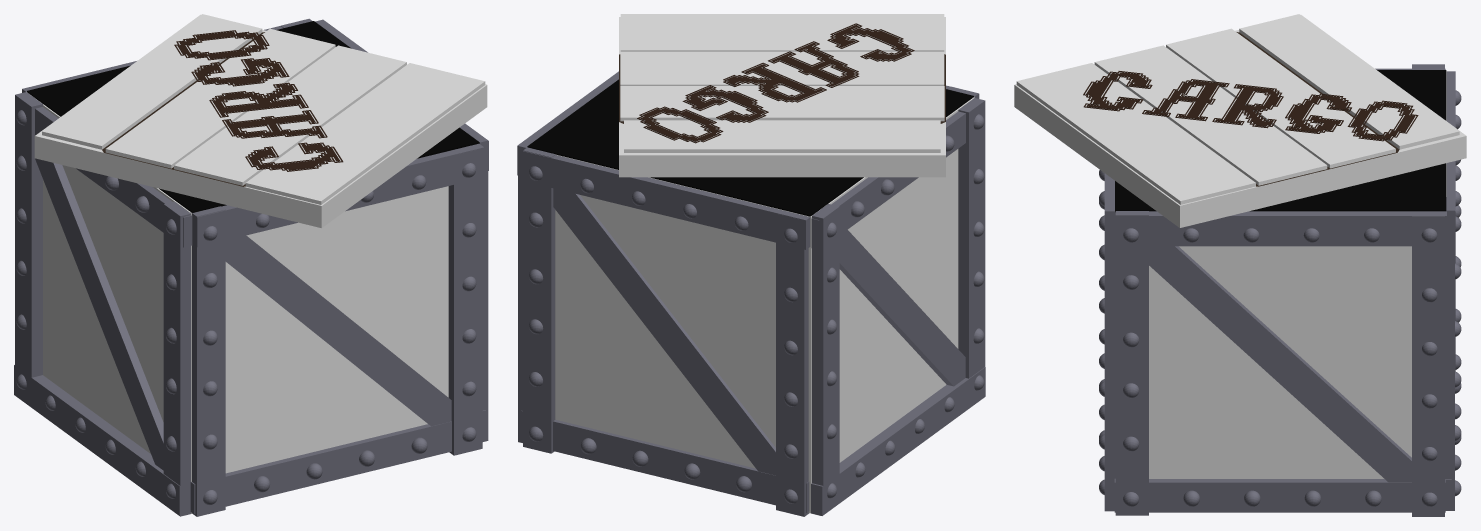
Rendered from crate_closed.fbx.
3 renders of one model, left to right at view 1: azimuth 30°, elevation 25°; view 2: azimuth 150°, elevation 25°; view 3: azimuth 270°, elevation 25°, orthographic.
Visible parts, largest first — view 1: Crate_Closed; view 2: Crate_Closed; view 3: Crate_Closed.
Boxes of the visible parts, x1,y1,x2,y2 form: Crate_Closed: (14, 14, 488, 516); Crate_Closed: (517, 14, 985, 516); Crate_Closed: (1014, 14, 1466, 516).
Bounding box in the file's own units: 54.64 × 44.14 × 54.64.
